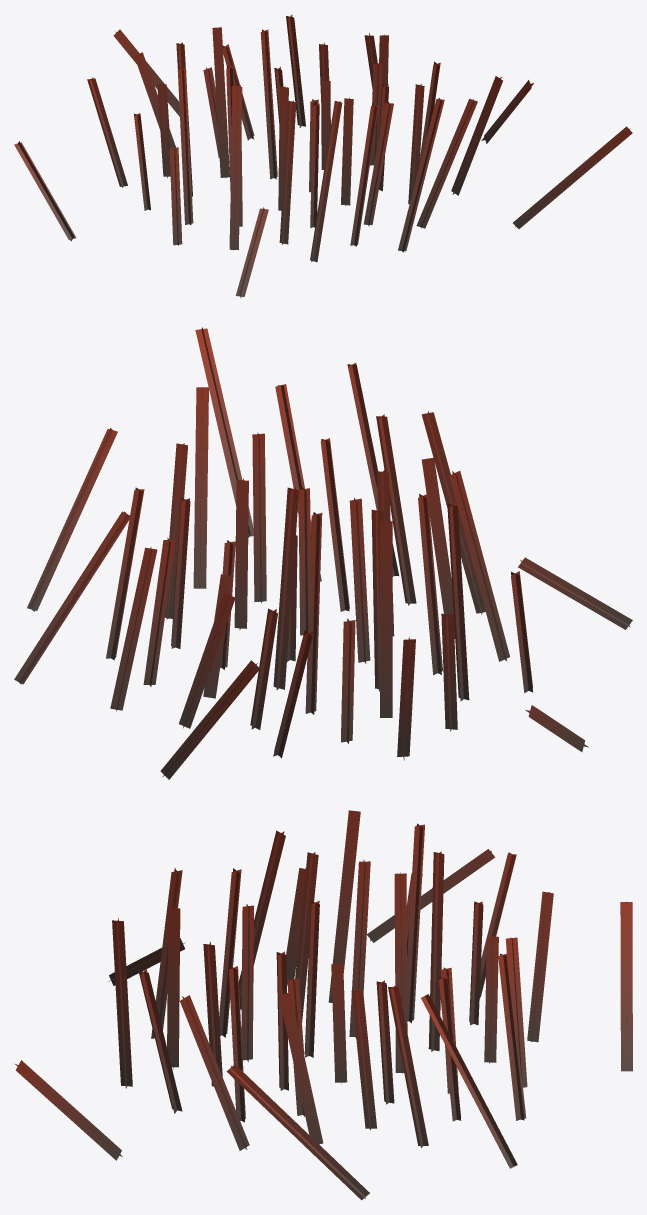
Rendered from ChanHuong_Dem3.glb.
The picture shows the model from 3 angles, top to bottom: view 1: azimuth 30°, elevation 25°; view 2: azimuth 150°, elevation 25°; view 3: azimuth 270°, elevation 25°; orthographic projection. The views are drawn at different scales.
Parts seen in each view (by area): view 1: ChanHuong_Dem3_Que; view 2: ChanHuong_Dem3_Que; view 3: ChanHuong_Dem3_Que.
Part boxes in pixels (x1,y1,x2,y2): ChanHuong_Dem3_Que: [14, 14, 632, 297]; ChanHuong_Dem3_Que: [14, 327, 632, 779]; ChanHuong_Dem3_Que: [14, 810, 632, 1200].
Size of the model in its own units: 0.1876 by 0.0634 by 0.1798.
